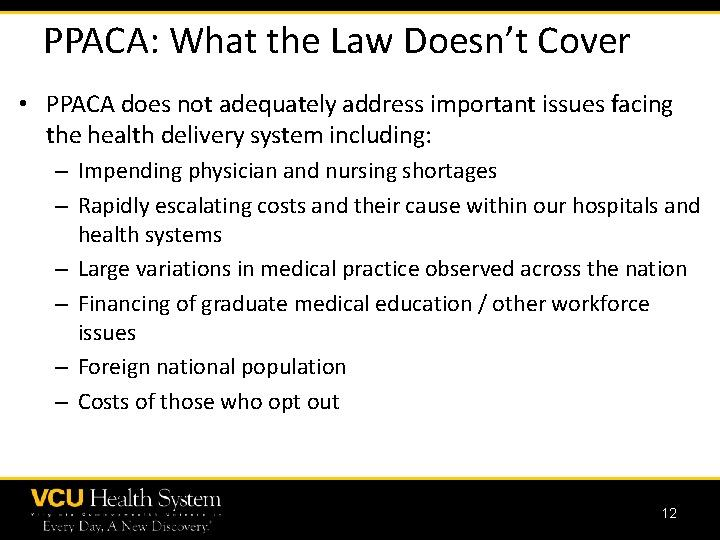paragraph: (13, 88, 720, 446)
subtitle: (21, 481, 250, 540)
title: (37, 11, 650, 70)
